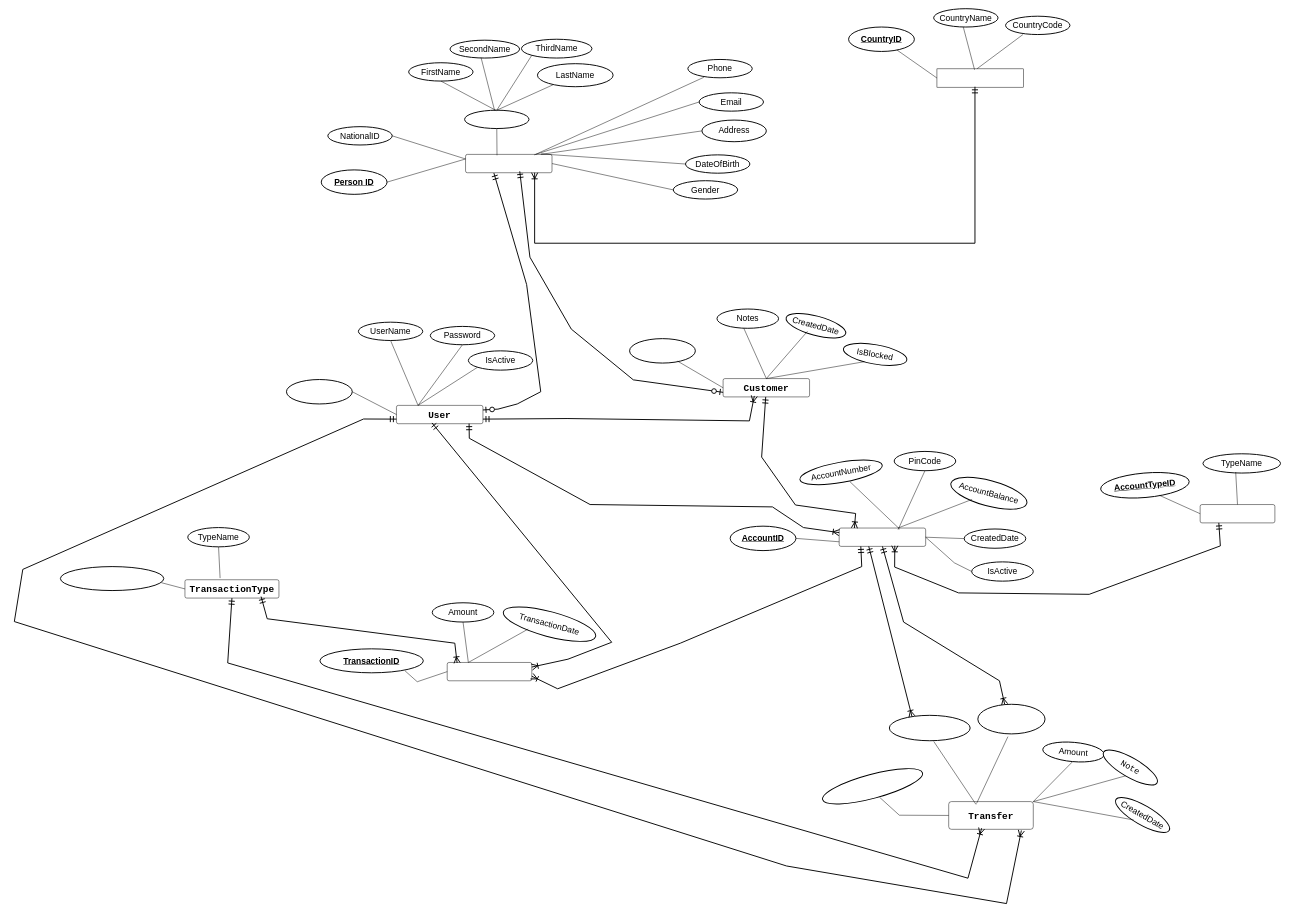
Image size: 1289x918. Some labels were removed from this diagram. The shapes that lost their labels are listed below. From the top down, each one's box as (x1, y1, x2, y2) in pixels, then its label:
(936, 68, 1023, 87): Country
(464, 110, 529, 129): Name
(465, 154, 552, 173): Person
(629, 338, 696, 363): CustomerID
(286, 379, 352, 404): UserID
(1200, 504, 1275, 523): AccountType
(839, 528, 926, 546): Account
(60, 566, 164, 591): TransactionTypeID
(447, 662, 532, 681): Transaction
(889, 715, 970, 741): FromAccountID
(977, 704, 1045, 734): ToAccountID
(819, 761, 926, 812): TransferID
